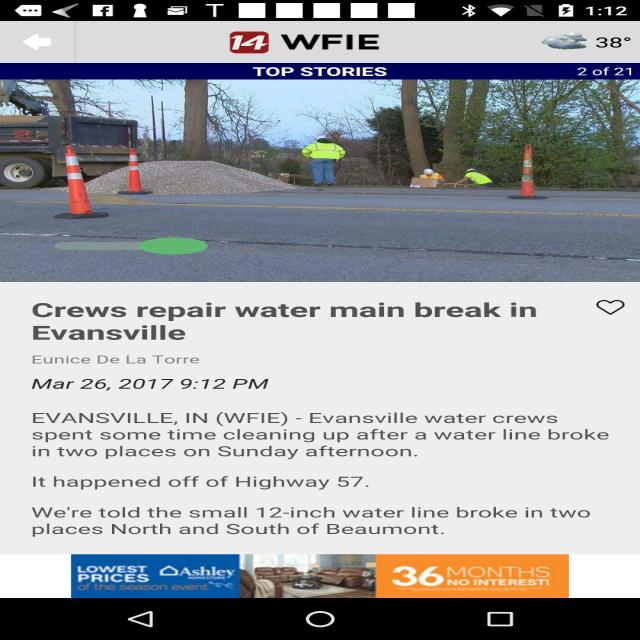social proof: (54, 227, 208, 265)
